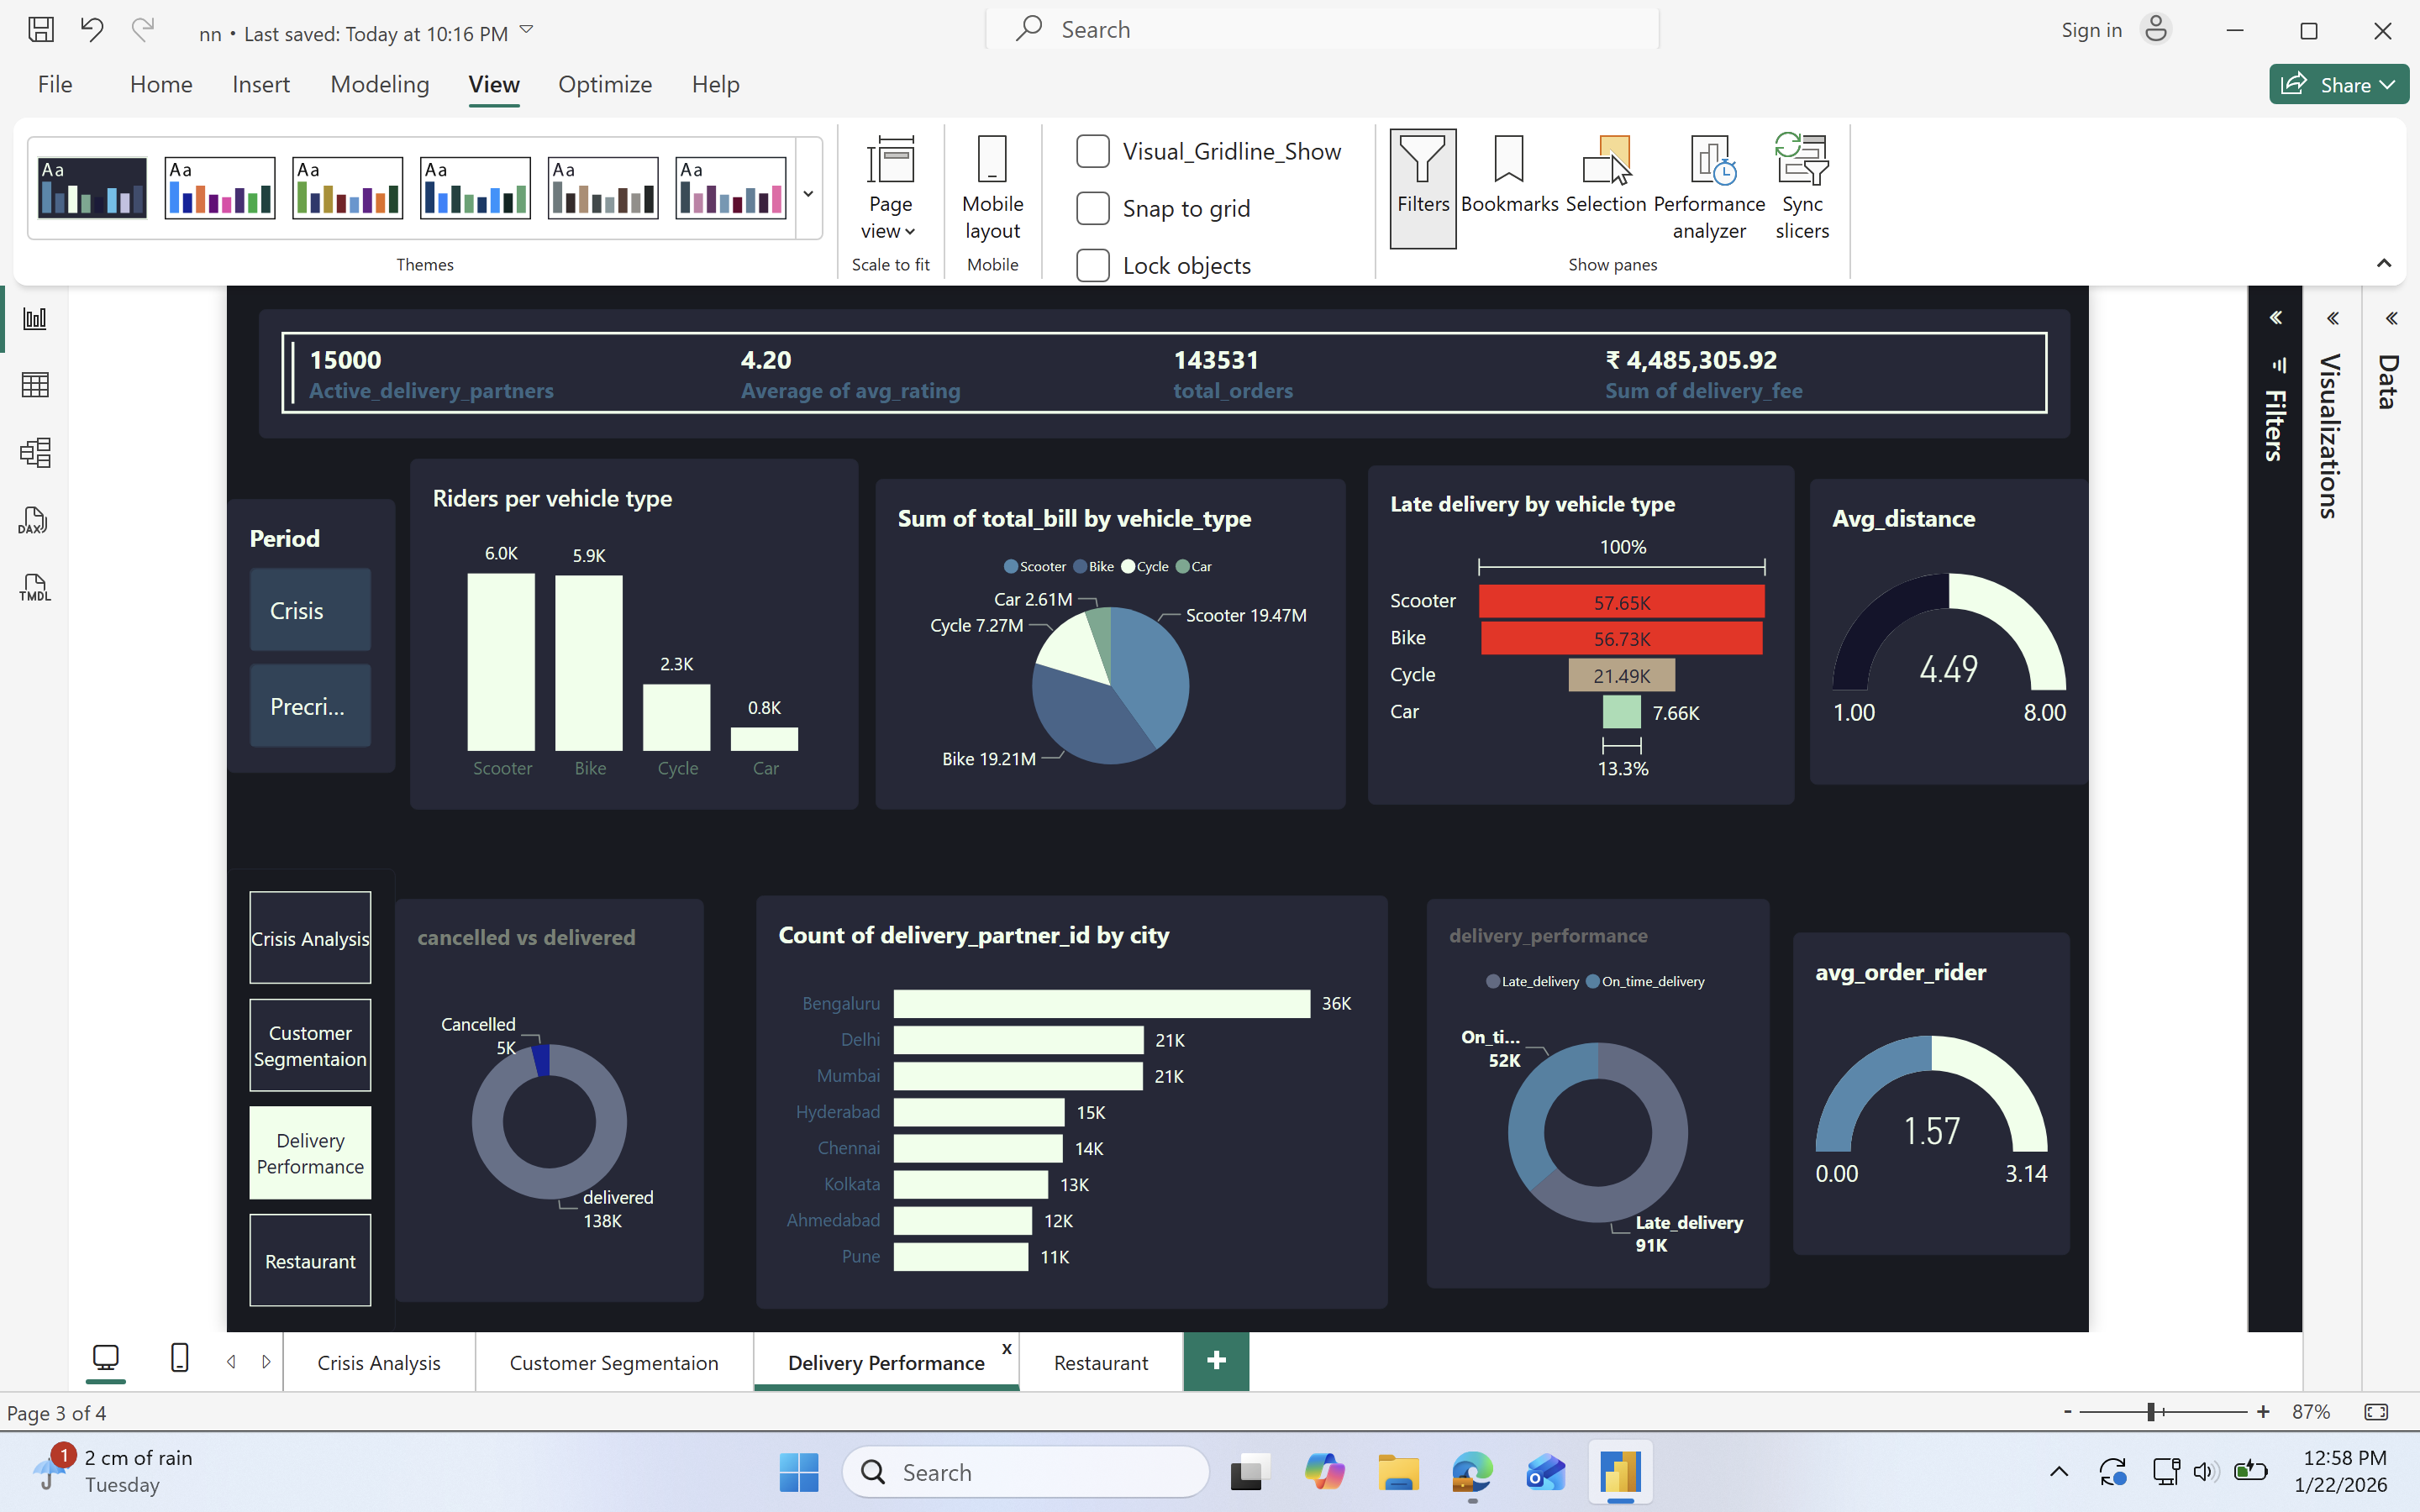

What the dashboard file says about the page in this screenshot:
{"tool":"powerbi","page":{"name":"Delivery Performance","canvas":[1280,720],"ordinal":2},"visuals":[{"type":"donutChart","title":"cancelled vs delivered","fields":{"Category":["orders.delivery_status"],"Y":["fact_order_items.total_orders"]},"box":[115.6,421.8,212.6,277.4],"z":0},{"type":"columnChart","title":"Riders per vehicle type","fields":{"Category":["dim_delivery_partner_.vehicle_type"],"Y":["CountNonNull(dim_delivery_partner_.delivery_partner_id)"]},"box":[126,119,308.6,241.5],"z":1000},{"type":"barChart","fields":{"Category":["dim_restaurant.city"],"Y":["CountNonNull(orders.delivery_partner_id)"]},"box":[364,419.5,434.5,284.3],"z":2000},{"type":"gauge","title":"Avg_distance","fields":{"MinValue":["Min(fact_delivery_performance.distance_km)"],"MaxValue":["Max(fact_delivery_performance.distance_km)1"],"Y":["Avg(fact_delivery_performance.distance_km)"]},"box":[1088.7,132.9,191.8,210.3],"z":3000},{"type":"advancedSlicerVisual","fields":{"Values":["orders.Period"]},"box":[0,146.3,115.9,188.5],"z":4000},{"type":"funnel","title":"Late delivery by vehicle type","fields":{"Category":["dim_delivery_partner_.vehicle_type"],"Y":["CountNonNull(fact_delivery_performance.late_deliveries)"]},"box":[784.7,123.7,293.5,233.5],"z":5000},{"type":"pieChart","fields":{"Category":["dim_delivery_partner_.vehicle_type"],"Y":["Sum(orders.total_bill)"]},"box":[446.1,132.9,323.6,227.7],"z":6000},{"type":"gauge","fields":{"Y":["dim_customer.avg_order_rider"]},"box":[1077.1,444.9,190.7,221.9],"z":7000},{"type":"donutChart","title":"delivery_performance","fields":{"Y":["fact_order_items.total_orders"],"Series":["fact_delivery_performance.late_deliveries"]},"box":[825.2,421.8,235.8,268.1],"z":8000},{"type":"pageNavigator","box":[0,401.6,115.9,319.6],"z":9000},{"type":"multiRowCard","fields":{"Values":["dim_customer.Active_delivery_partners","dim_delivery_partner_.avg_rating","fact_order_items.total_orders","Sum(orders.delivery_fee)"]},"box":[22,16.2,1245.8,89],"z":10000}]}

Visuals, with their boxes on the page's 1280x720 design canvas (x1, y1, x2, y2). These are canvas units, not pixel positions in the 2420x1512 screenshot, which may show the page scaled, cropped or inside an application window:
"cancelled vs delivered" donutChart: <bbox>116, 422, 328, 699</bbox>
"Riders per vehicle type" columnChart: <bbox>126, 119, 435, 360</bbox>
barChart - dim_restaurant.city x CountNonNull(orders.delivery_partner_id): <bbox>364, 420, 798, 704</bbox>
"Avg_distance" gauge: <bbox>1089, 133, 1280, 343</bbox>
advancedSlicerVisual - orders.Period: <bbox>0, 146, 116, 335</bbox>
"Late delivery by vehicle type" funnel: <bbox>785, 124, 1078, 357</bbox>
pieChart - dim_delivery_partner_.vehicle_type x Sum(orders.total_bill): <bbox>446, 133, 770, 361</bbox>
gauge - dim_customer.avg_order_rider: <bbox>1077, 445, 1268, 667</bbox>
"delivery_performance" donutChart: <bbox>825, 422, 1061, 690</bbox>
pageNavigator: <bbox>0, 402, 116, 721</bbox>
multiRowCard - dim_customer.Active_delivery_partners x dim_delivery_partner_.avg_rating: <bbox>22, 16, 1268, 105</bbox>
